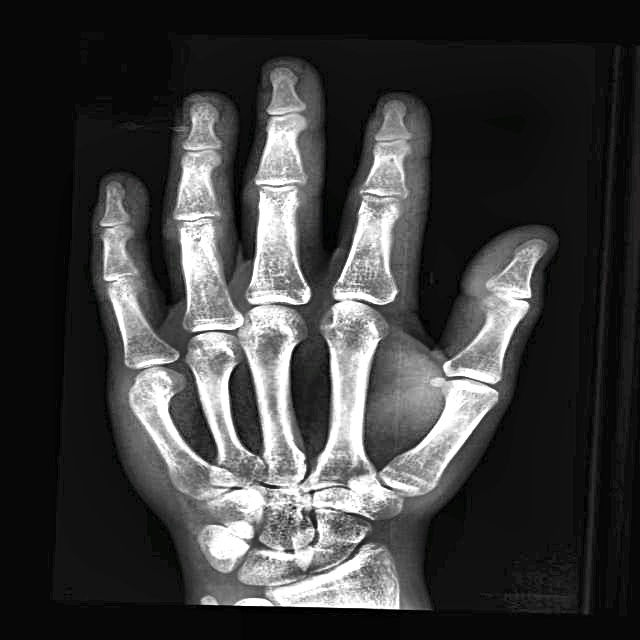Healthy: (101, 159, 499, 589)
